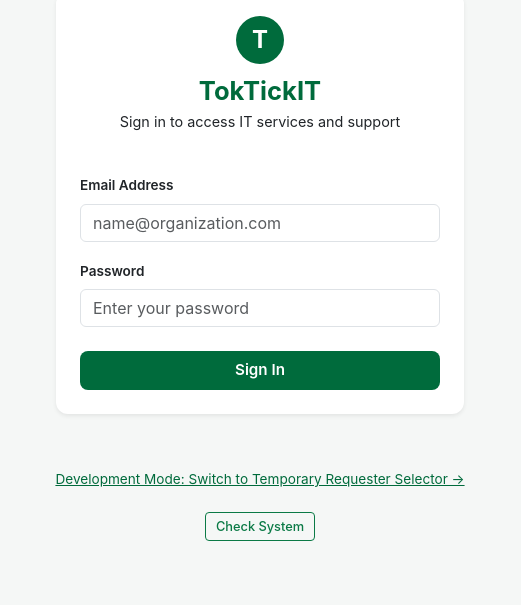
Test case: App › shows an Offline error message when the API is unavailable
Click the button "Check System": {"x": 260, "y": 527} left=205, top=512, right=315, bottom=542
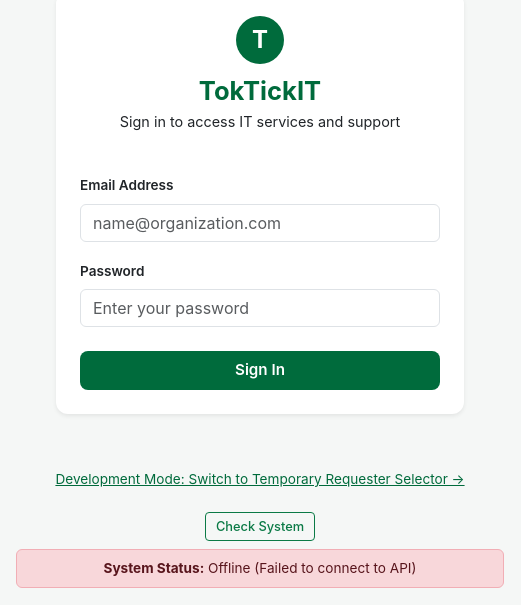
Expected: the text "System Status:" is shown, left=104, top=560, right=204, bottom=576
Expected: the text "System Status: Offline (Failed to connect to API)" is shown, left=16, top=550, right=504, bottom=588
